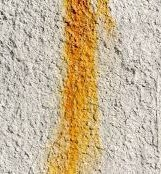Corrosion: (42, 1, 114, 174)
